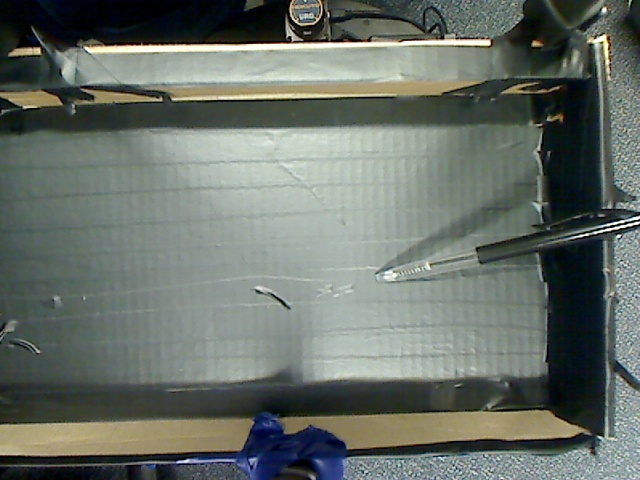pen: (361, 191, 640, 294)
